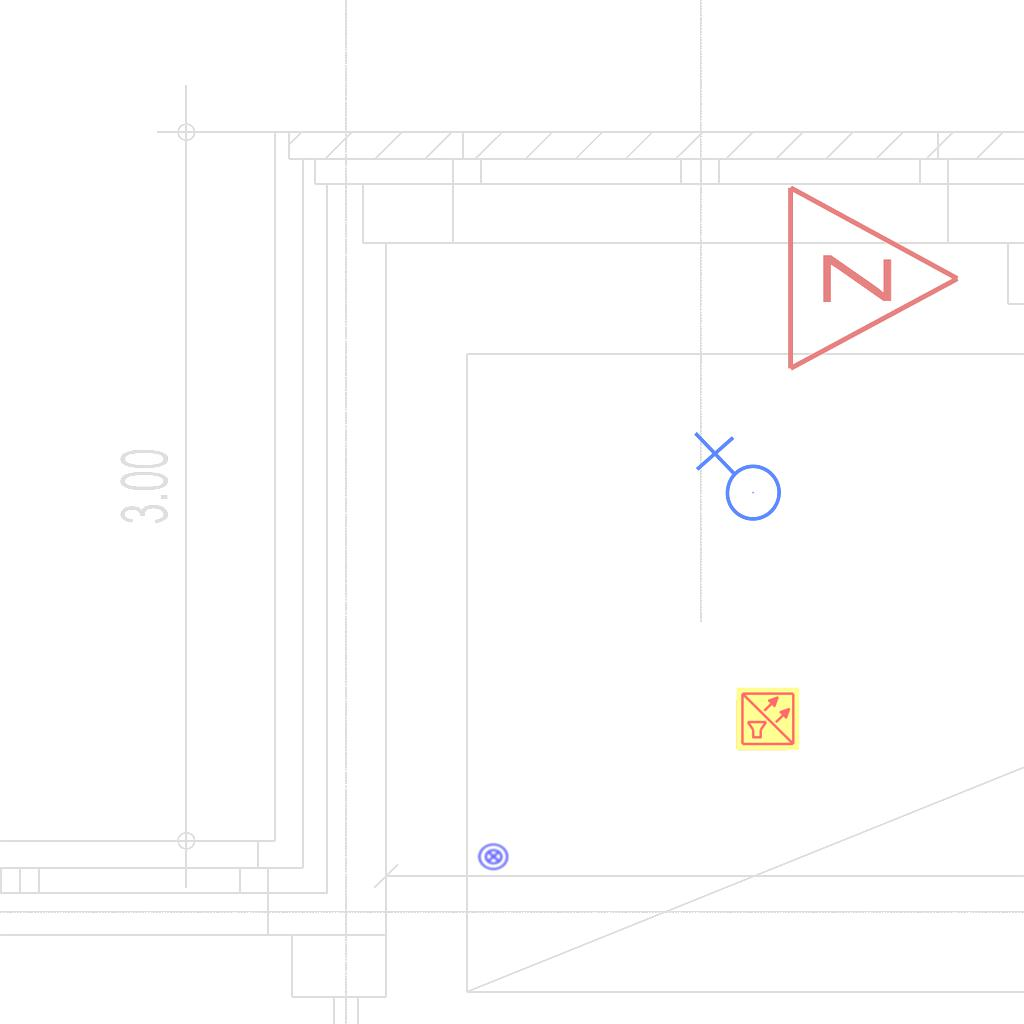Elektroanschluss_allgemein_230V_Geraeteanschlussdose_230V: (689, 431, 783, 530)
OKW_Multisensormelder_(Kombination_optischer_Rauch-Kahlenmonoxid_Waerme-Melder): (735, 686, 801, 752)
Taster_beleuchtet: (477, 840, 510, 873)
Zimmersignalleuchte: (773, 178, 973, 374)
